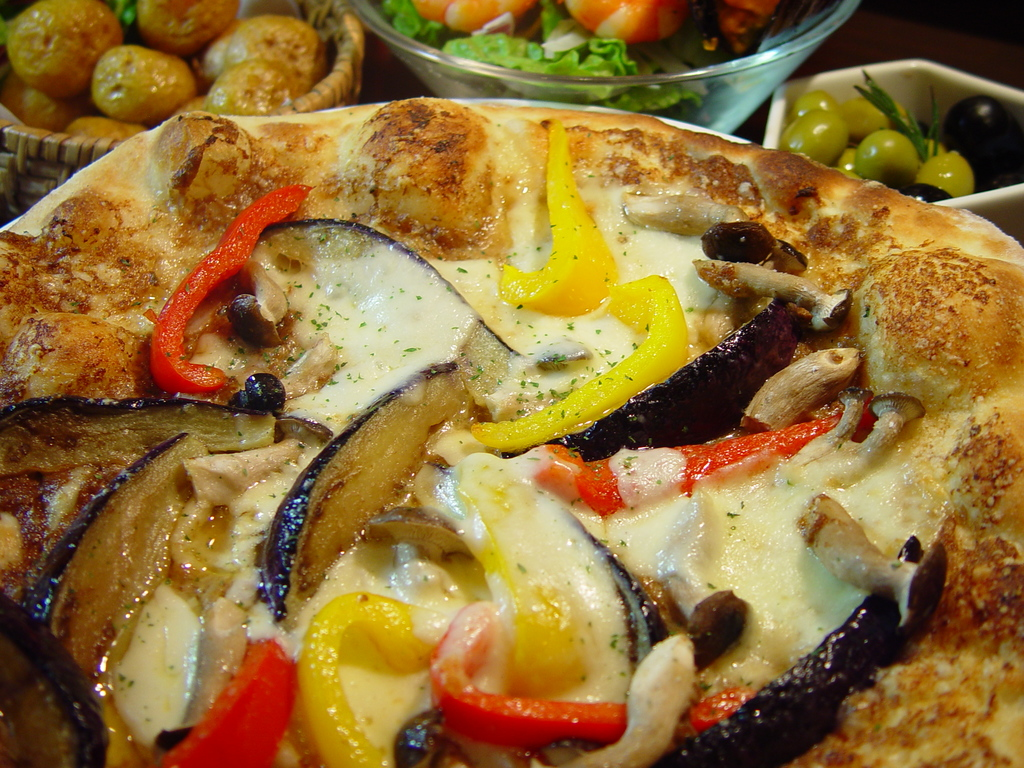Pizza: (0, 91, 1023, 767)
